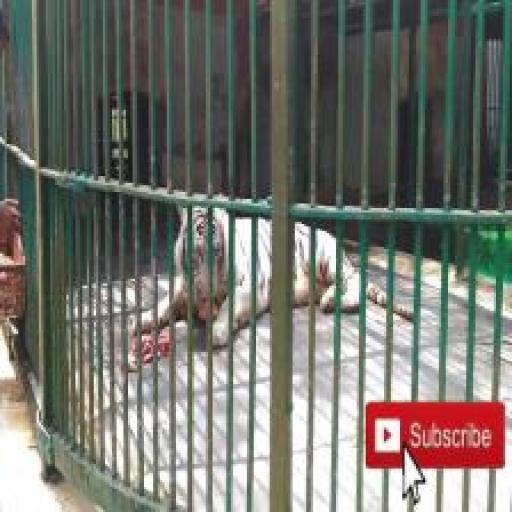Tiger: (132, 194, 414, 346)
